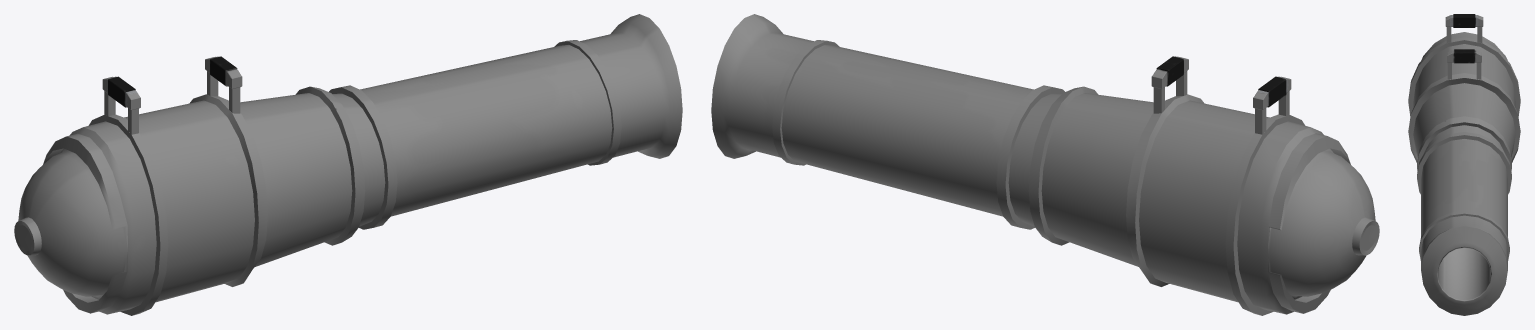
Rendered from Cannon 3.fbx.
3 renders of one model, left to right at view 1: azimuth 30°, elevation 25°; view 2: azimuth 150°, elevation 25°; view 3: azimuth 270°, elevation 25°, orthographic. The views are drawn at different scales.
Visible parts, largest first — view 1: Cannon3; view 2: Cannon3; view 3: Cannon3.
Boxes of the visible parts, x1,y1,x2,y2 form: Cannon3: [14, 14, 682, 315]; Cannon3: [711, 14, 1379, 315]; Cannon3: [1408, 14, 1520, 315].
Bounding box in the file's own units: 11.54 × 3.93 × 2.69.
1 material, 1 textured.
